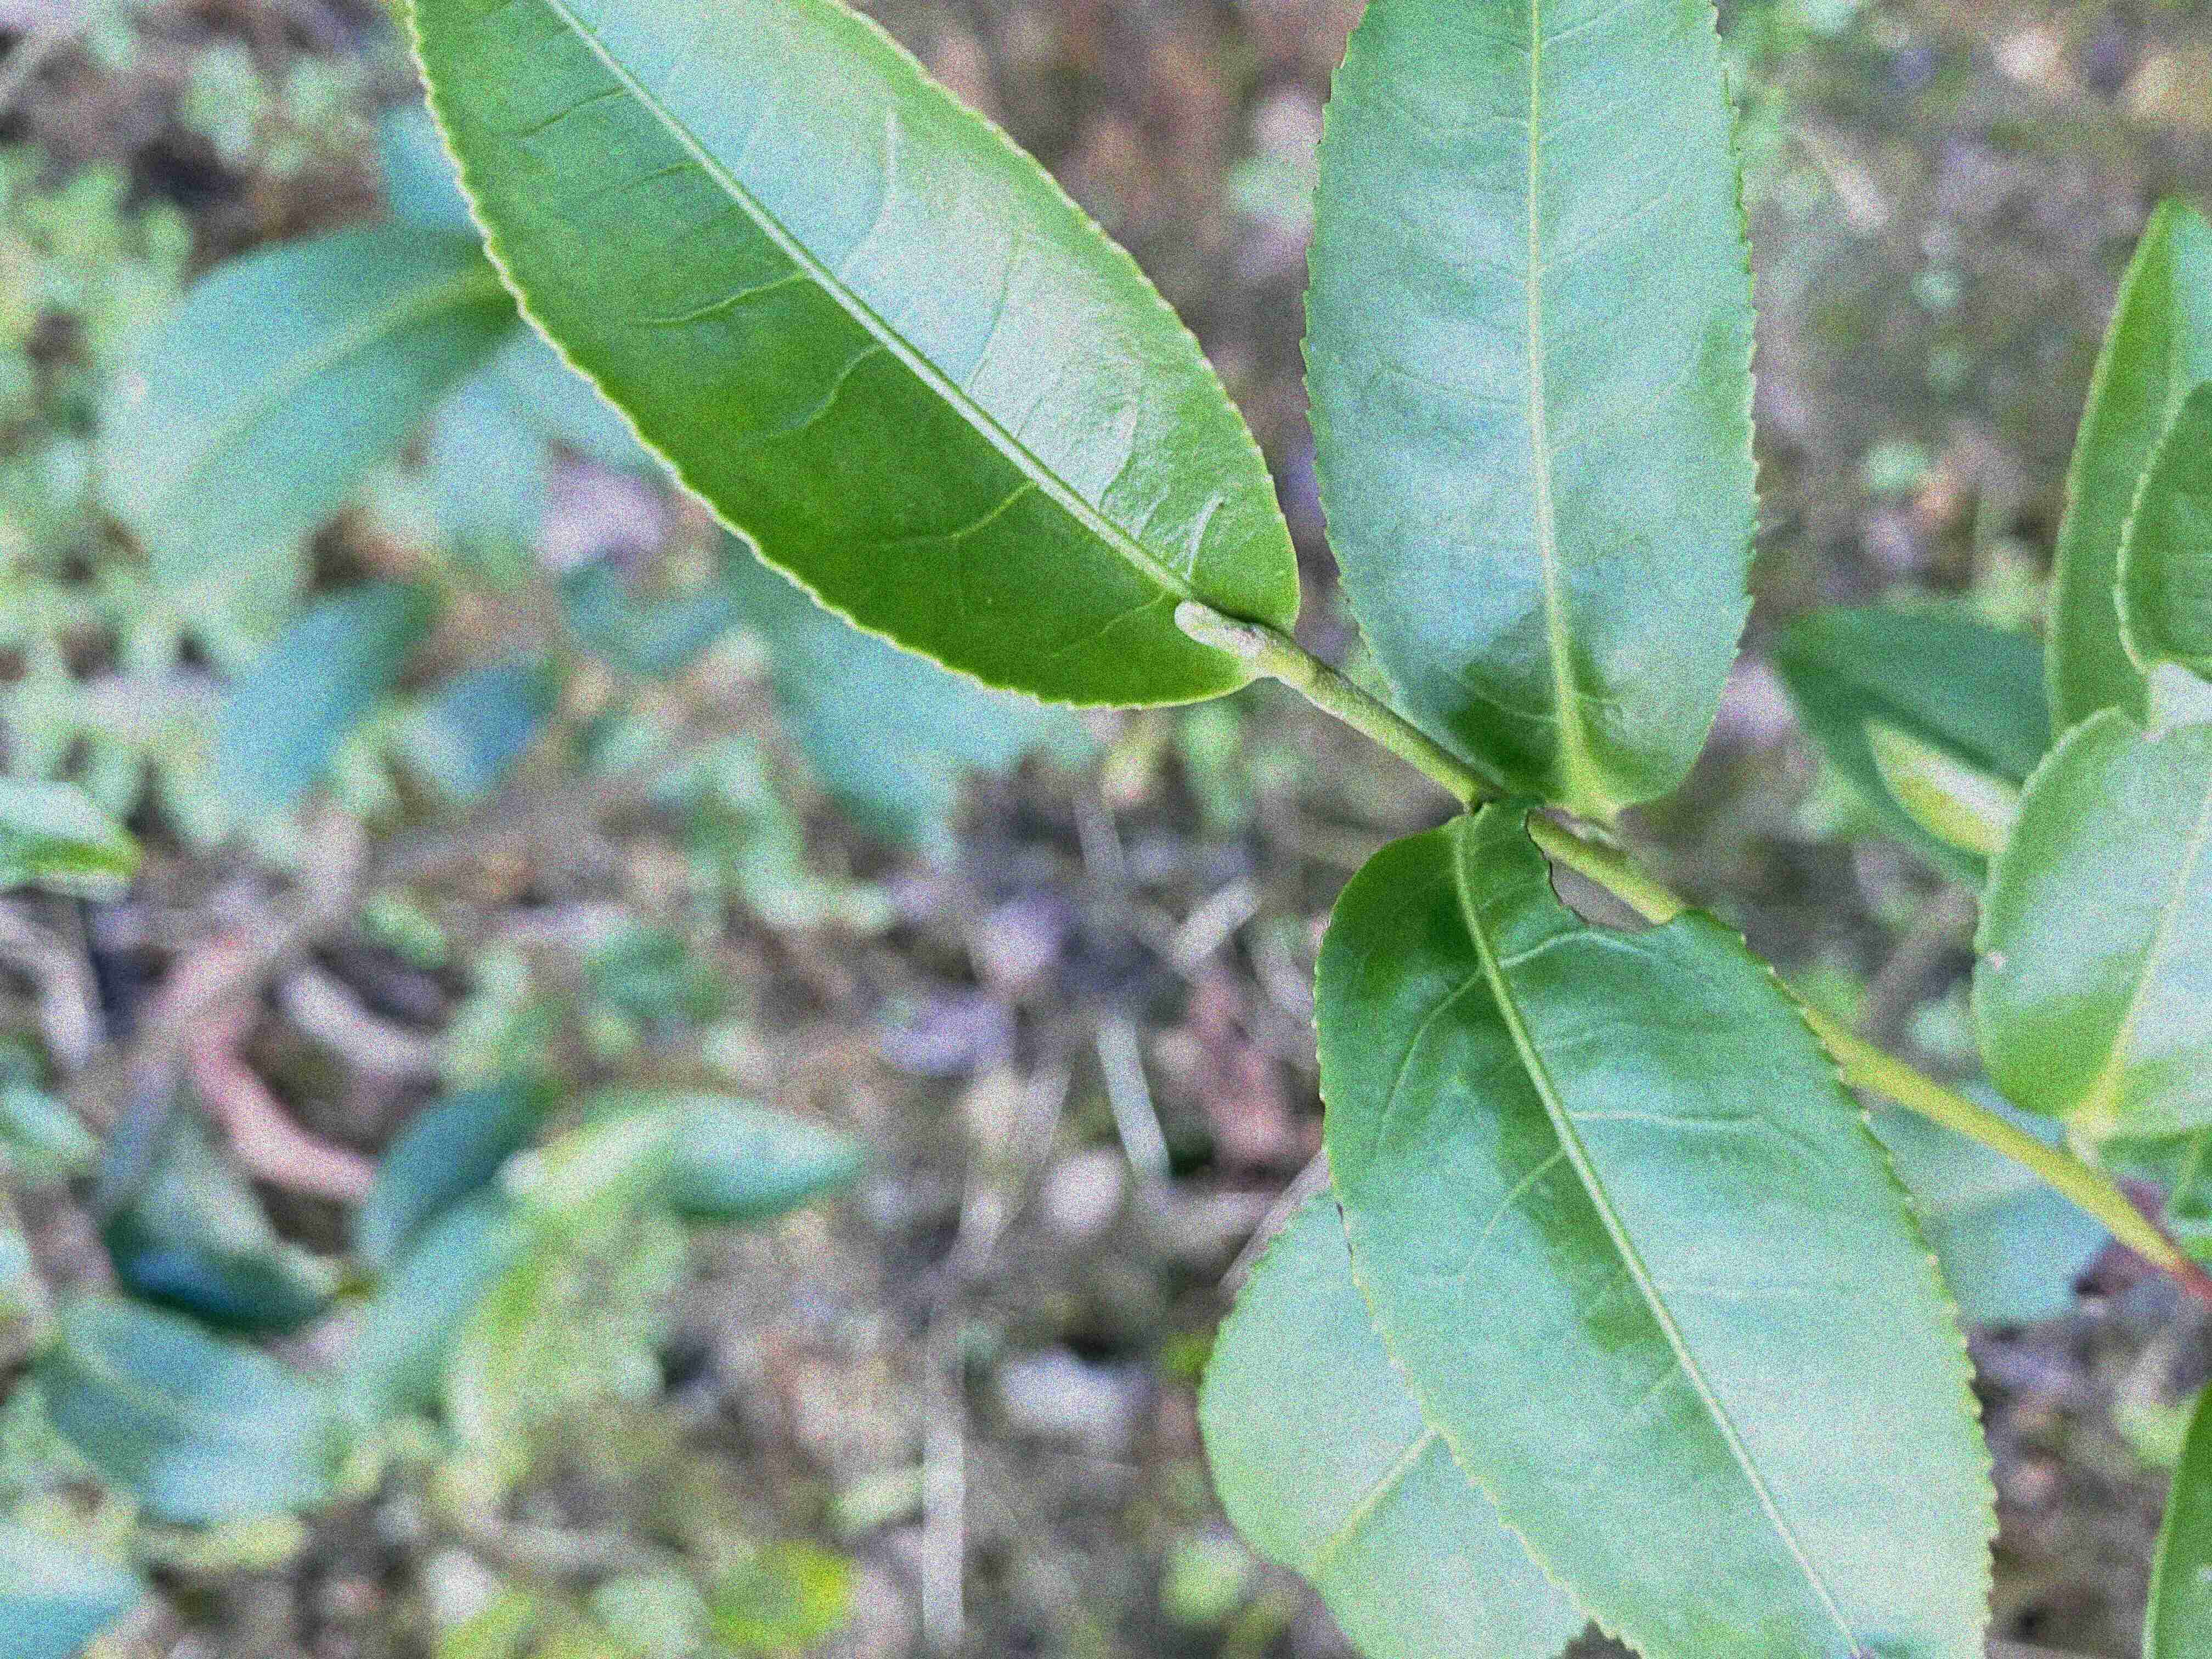chihuo_low: (1313, 796, 2008, 1657)
healthy: (402, 3, 1303, 716), (1301, 2, 1764, 816)
